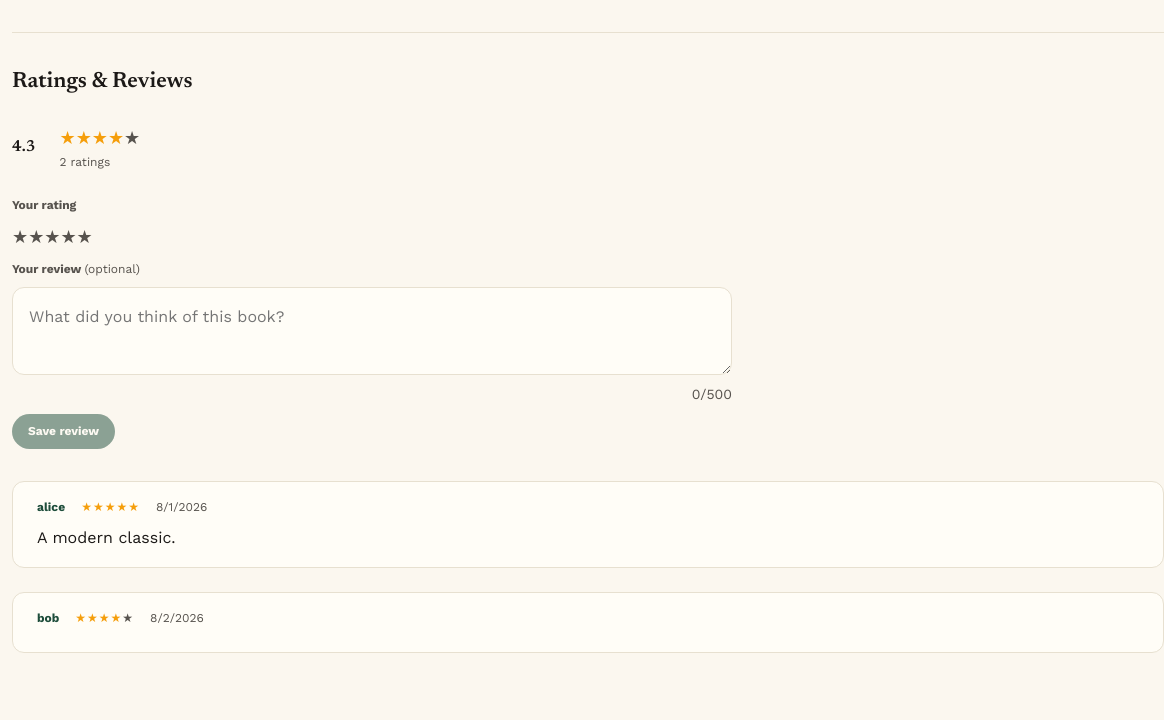
Test case: StarRating — signed in › shows an alert on save failure
Expected: the element showing "★ ★ ★ ★ ★" is shown, 12,223 -> 93,252
What coordinates should you click on to do the following:
click the radio button named "Rate 4 stars"
I would click on:
 (68, 238)
Its box is 60,223 -> 76,252.
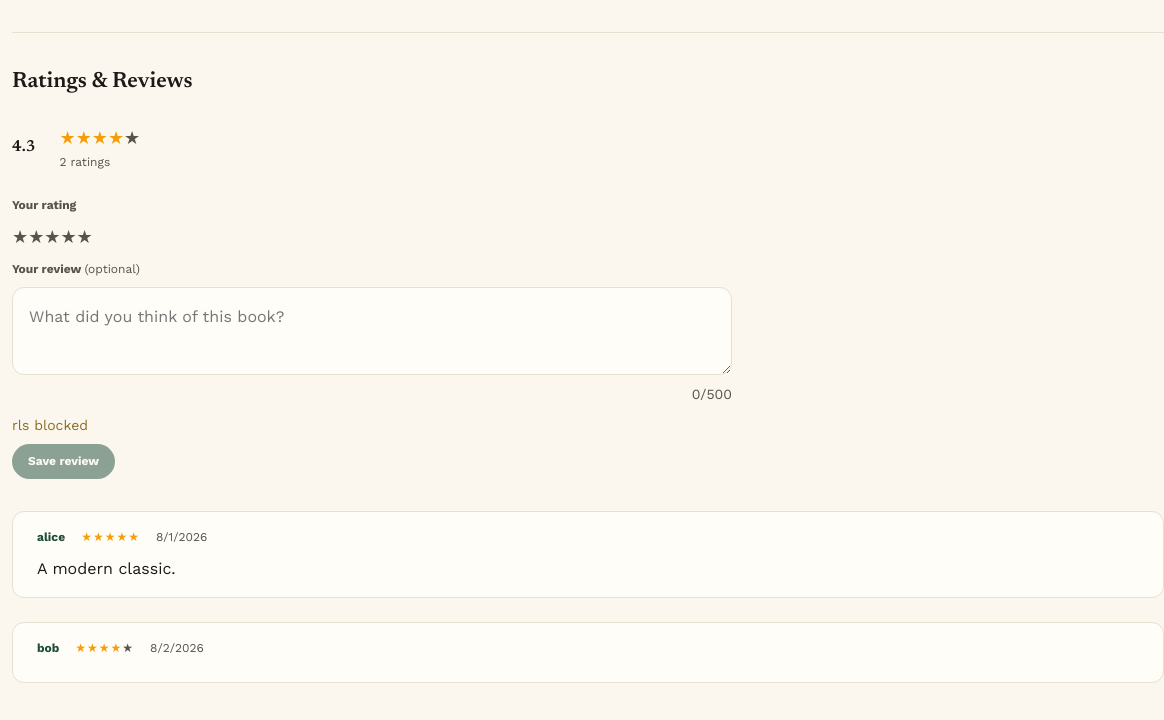
Now the message reads "rls blocked", box 12,417 -> 88,433
